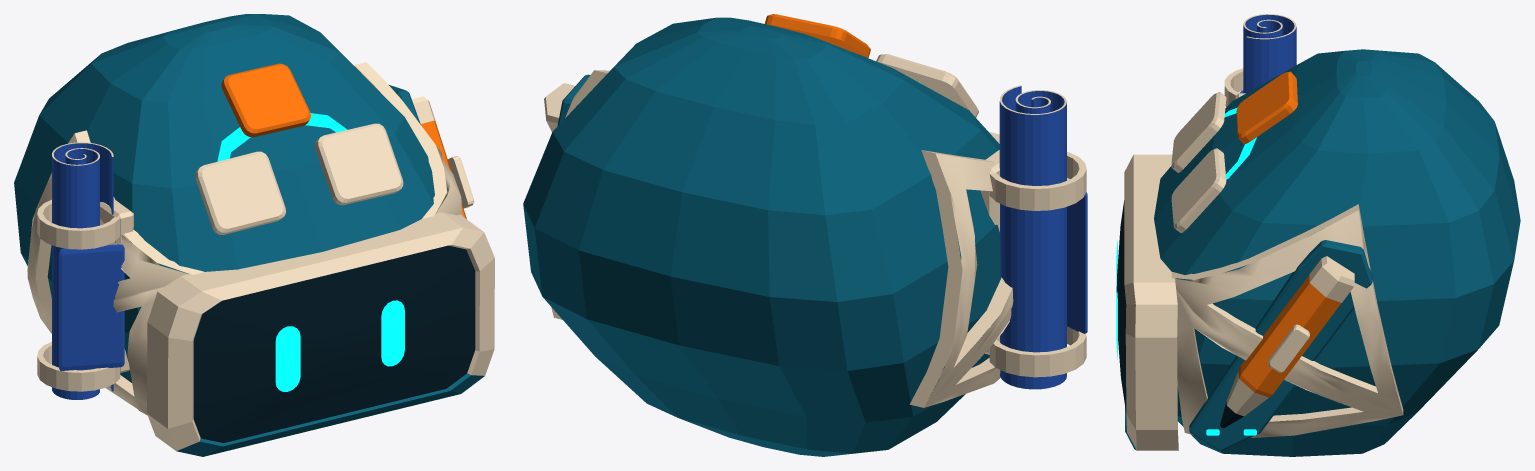
Rendered from copilot_architect_v01.glb.
3 views of the same model, side by side, from view 1: azimuth 30°, elevation 25°; view 2: azimuth 150°, elevation 25°; view 3: azimuth 270°, elevation 25° (orthographic). The views are drawn at different scales.
Visible parts, largest first — view 1: pavilion_body, pavilion_eyes; view 2: pavilion_body; view 3: pavilion_body, pavilion_eyes.
Boxes of the visible parts, x1,y1,x2,y2 form: pavilion_body: [14, 14, 494, 456]; pavilion_eyes: [217, 113, 404, 391]; pavilion_body: [523, 14, 1087, 456]; pavilion_body: [1116, 14, 1520, 456]; pavilion_eyes: [1116, 107, 1256, 435].
Bounding box in the file's own units: 3.38 × 2.65 × 2.72.
2 materials, 2 textured.
